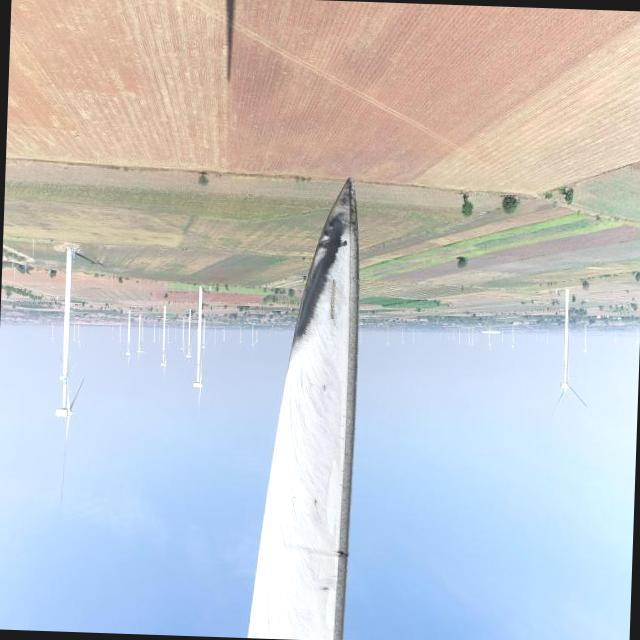Dirt: (246, 177, 358, 640)
Oil LEAKAGE: (291, 176, 359, 342)
Pin Hole: (317, 226, 351, 252), (331, 546, 349, 562), (310, 496, 322, 510), (321, 379, 332, 394), (321, 586, 331, 596)
